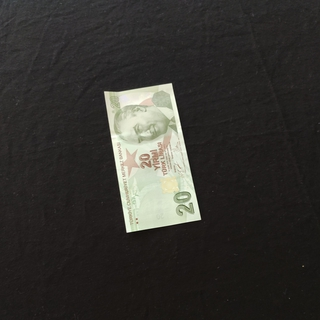20TLFront: (103, 82, 201, 232)
